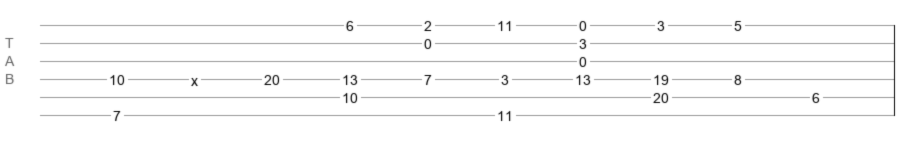0: (424, 36, 432, 46), (579, 18, 587, 28), (579, 54, 587, 64)
10: (109, 72, 125, 82), (342, 90, 358, 100)
11: (497, 108, 513, 118), (497, 18, 513, 28)
13: (342, 72, 358, 82), (575, 72, 591, 82)
19: (653, 72, 669, 82)
2: (424, 18, 432, 28)
20: (264, 72, 280, 82), (653, 90, 669, 100)
3: (501, 72, 509, 82), (579, 36, 587, 46), (657, 18, 665, 28)
5: (734, 18, 742, 28)
6: (346, 18, 354, 28), (812, 90, 820, 100)
7: (113, 108, 121, 118), (424, 72, 432, 82)
8: (734, 72, 742, 82)
x: (191, 73, 198, 81)
